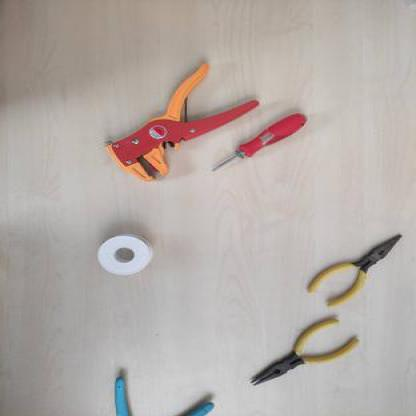Screwdriver: (204, 107, 306, 176)
